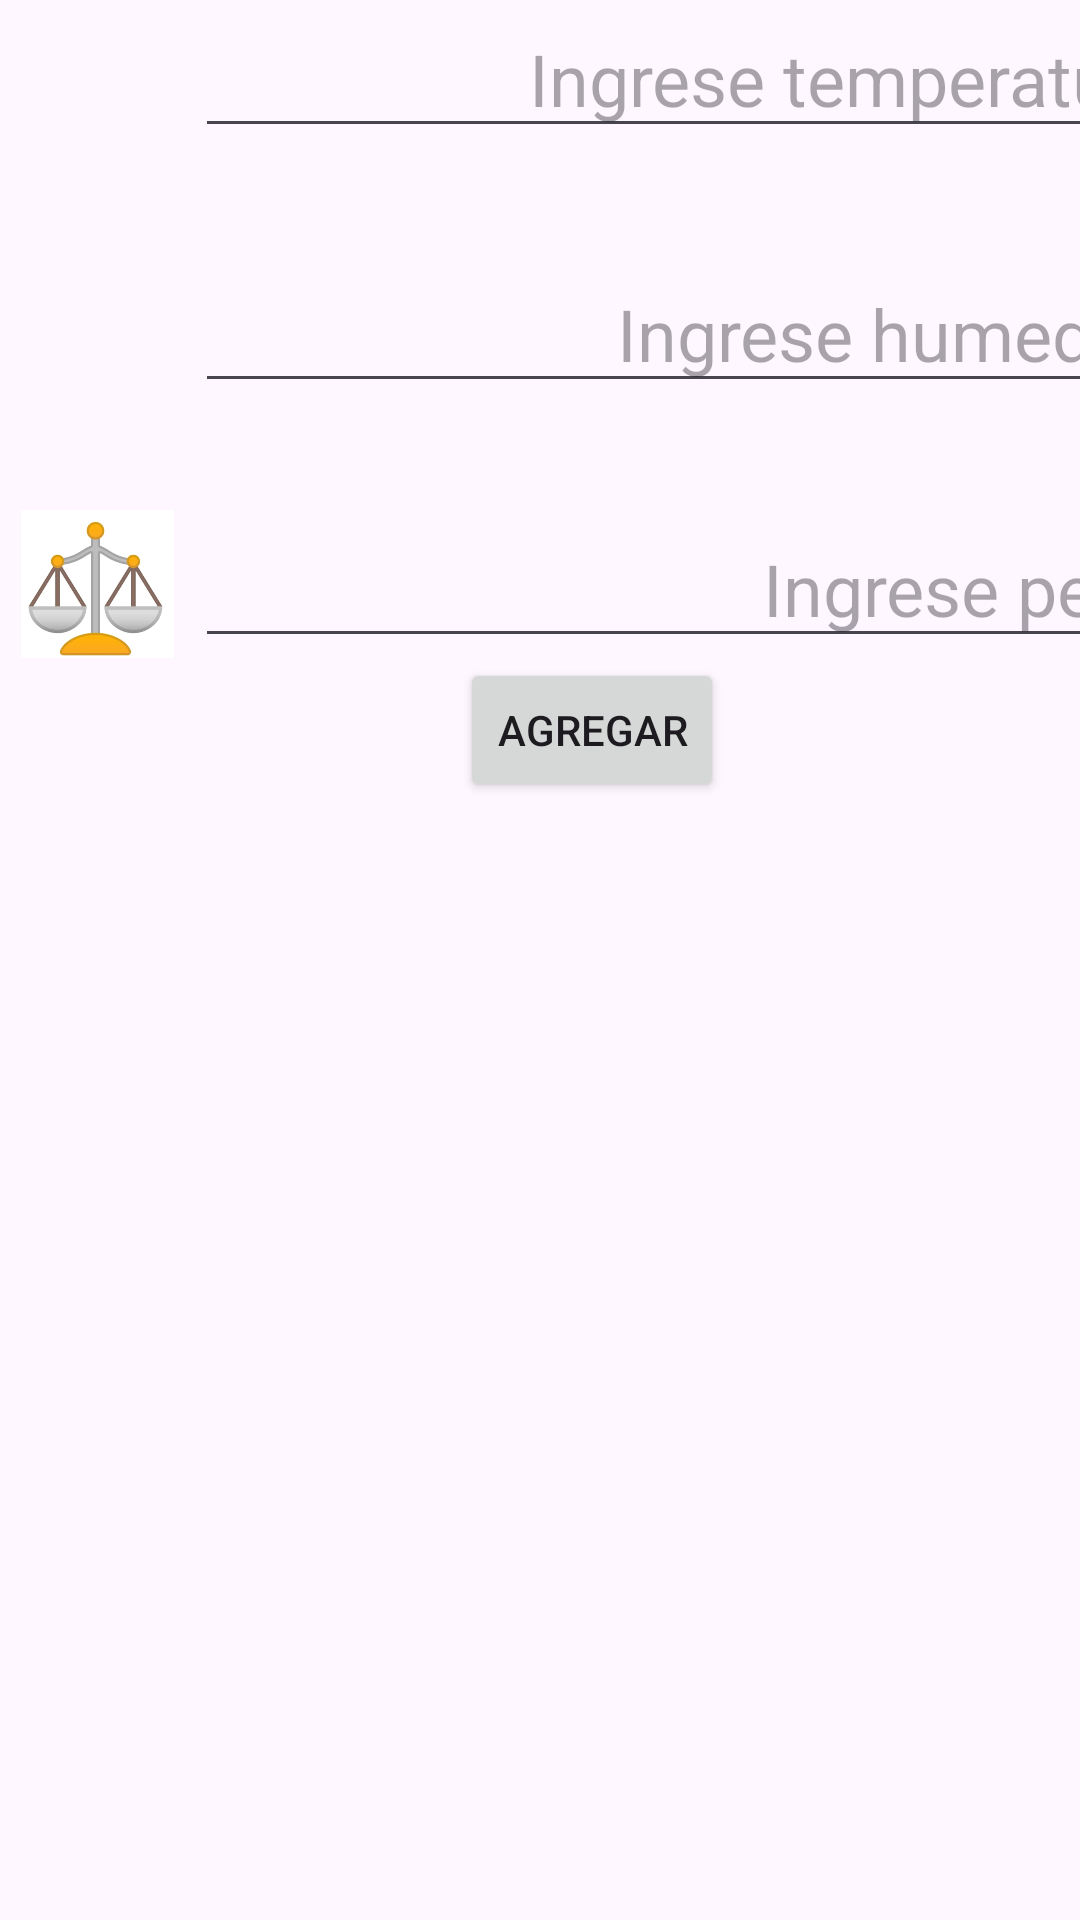

Named icons in this screenshot (1080 x 1920) and their bounding boxes, detection(x1, y1, x2, y2):
weight: detection(28, 522, 162, 656)
